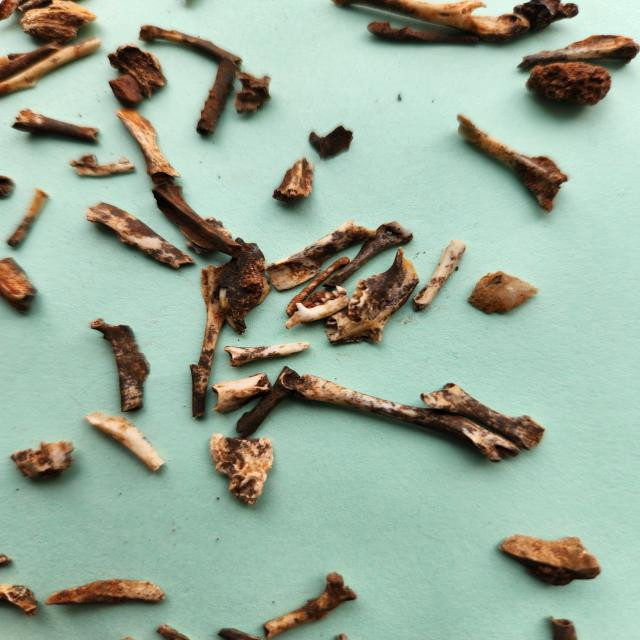fossil: (290, 370, 530, 467), (183, 248, 288, 431), (450, 112, 574, 215), (326, 245, 430, 348), (416, 374, 553, 449), (148, 179, 260, 263), (260, 218, 378, 293), (83, 198, 198, 271), (259, 564, 369, 639), (328, 0, 536, 38), (320, 217, 419, 294), (490, 530, 610, 592), (86, 312, 156, 416), (77, 407, 173, 478), (0, 36, 107, 99), (204, 432, 282, 518), (232, 362, 314, 443), (41, 573, 176, 618), (409, 230, 471, 317), (512, 30, 640, 72), (134, 18, 246, 66), (113, 108, 187, 180), (519, 60, 618, 111), (281, 250, 354, 317), (461, 263, 549, 318), (103, 41, 173, 110), (192, 58, 245, 140), (8, 105, 106, 147), (206, 366, 278, 422), (2, 180, 56, 253), (360, 17, 487, 48), (7, 435, 79, 488), (0, 248, 49, 317), (281, 284, 353, 330), (220, 336, 316, 370), (21, 0, 104, 39), (0, 38, 70, 79), (268, 155, 321, 209), (506, 0, 586, 33), (230, 66, 278, 119), (303, 122, 365, 163), (0, 576, 50, 626), (184, 210, 235, 256), (68, 152, 139, 182), (534, 611, 590, 640), (209, 622, 280, 640), (148, 618, 199, 640), (0, 170, 20, 211), (16, 0, 57, 16), (0, 547, 17, 574)
